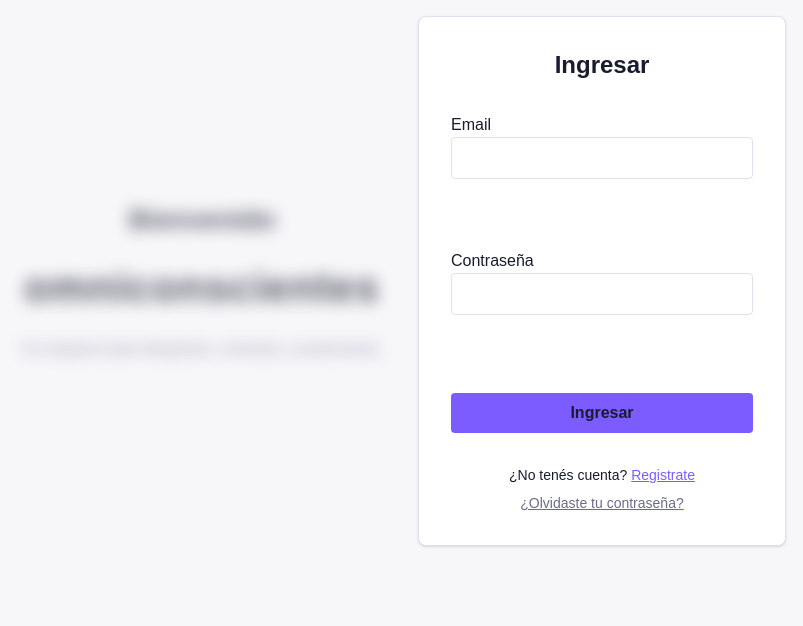
Test: AuthForm › Login Form › should display error message on failed login
Type "test@example.com" into the field with test id "email-input" at (602, 158), box [451,137,753,179]
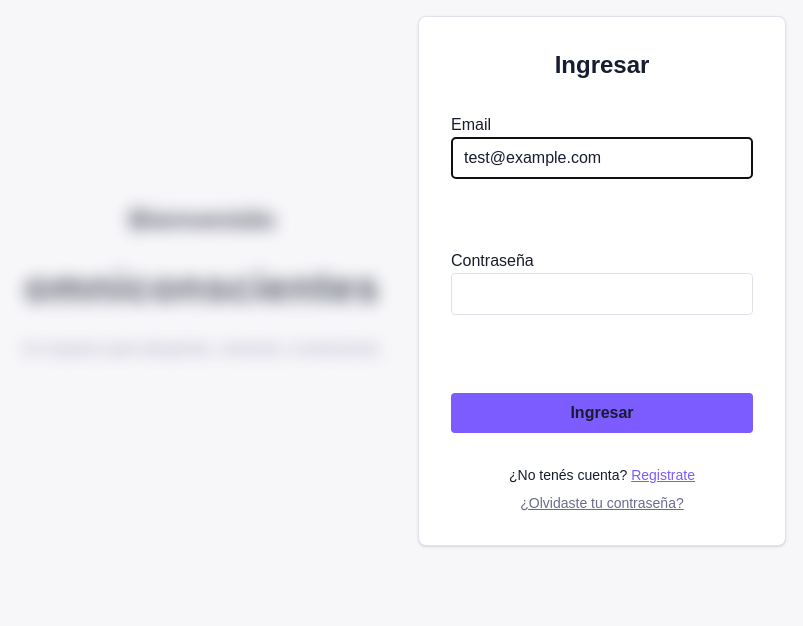
Type "wrongpassword" into the password field with test id "password-input" at (602, 294), box [451,273,753,315]
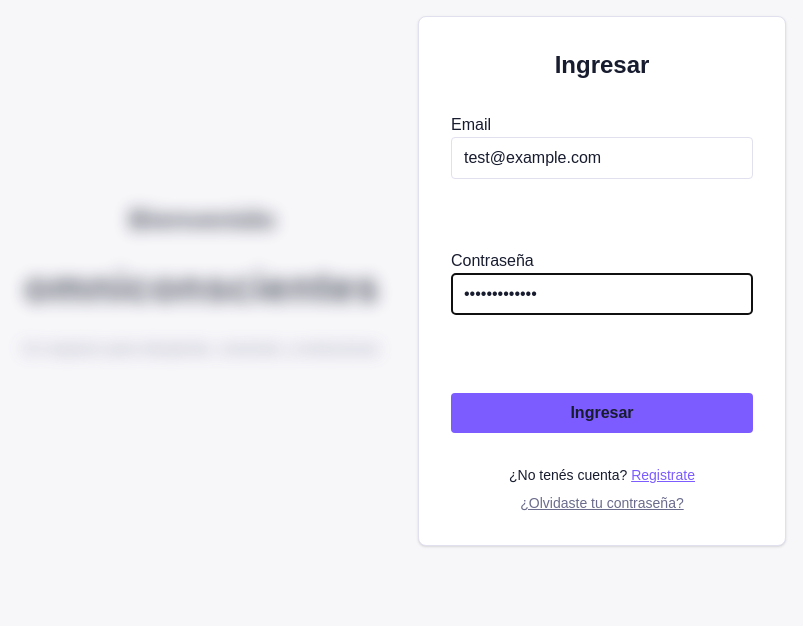
Click the button with test id "submit-button" at (602, 413), box [451,393,753,433]
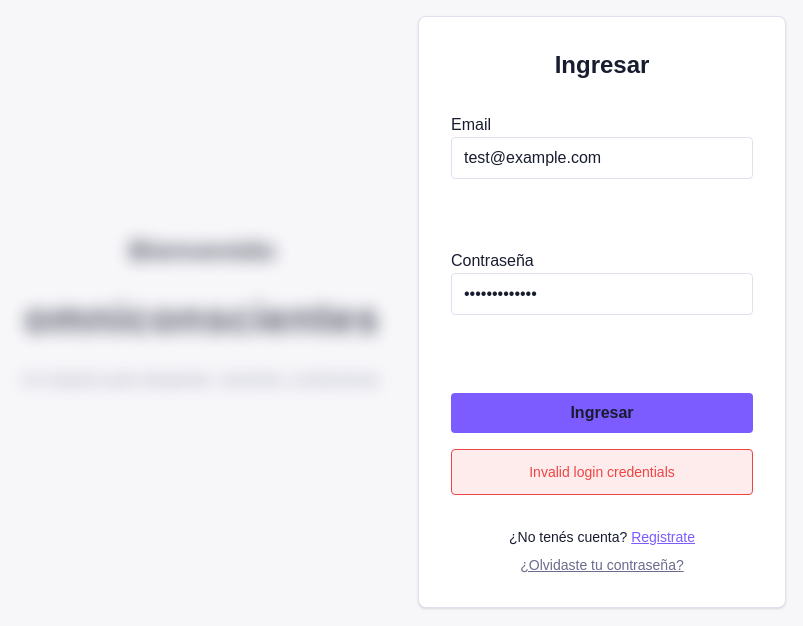
Expected: the text with test id "form-message" reads "Invalid login credentials", [529,464,675,480]
